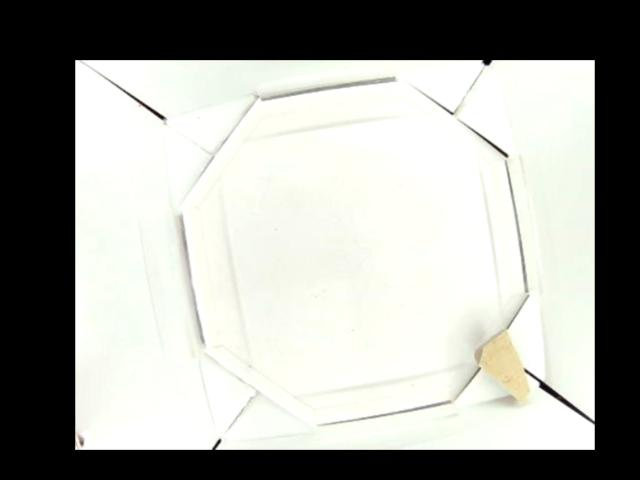China: (476, 330, 530, 406)
